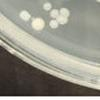red: (30, 17, 45, 31), (54, 13, 67, 26), (19, 10, 30, 22), (48, 8, 59, 19), (48, 20, 58, 31), (60, 8, 70, 18), (43, 2, 52, 11), (95, 0, 100, 6)
